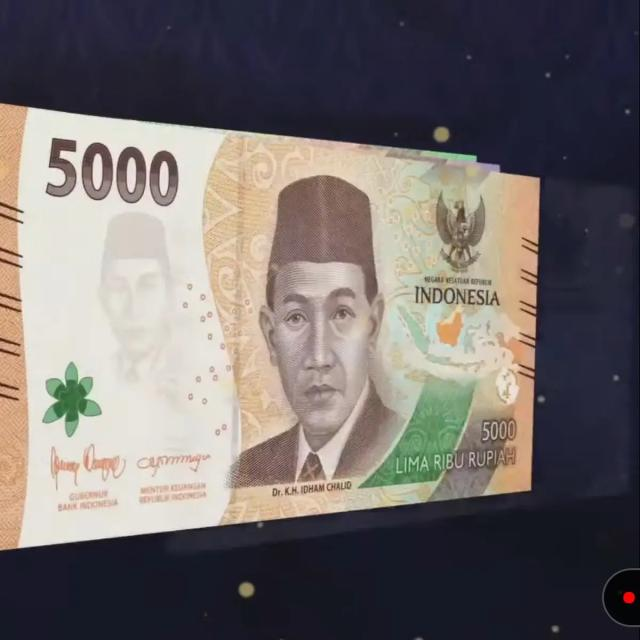lima ribu rupiah: (0, 101, 538, 551)
